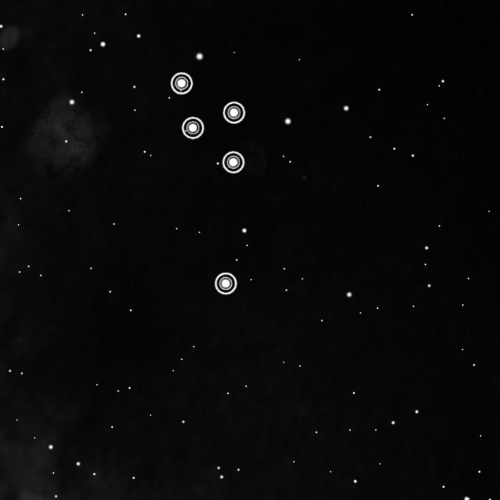delphinus: (162, 63, 251, 301)
